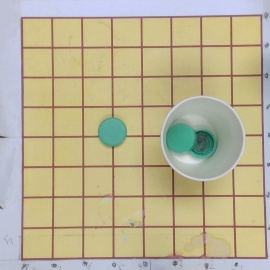green: (161, 95, 246, 183), (96, 116, 127, 147)
